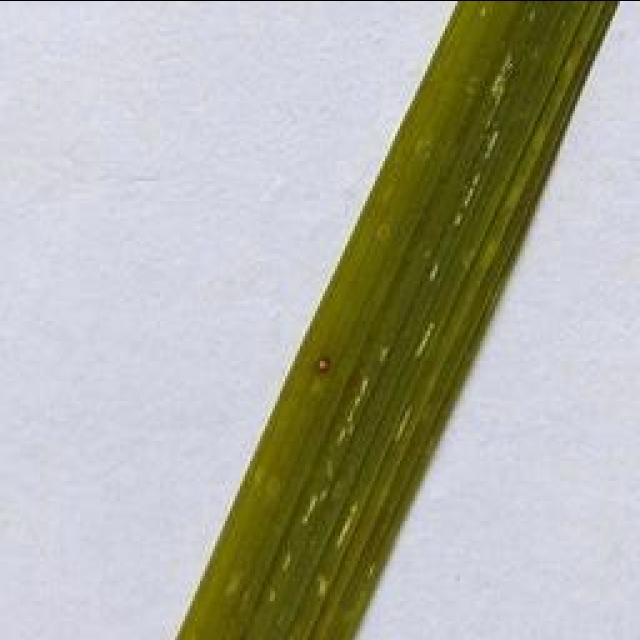Unhealthy: (316, 356, 334, 374)
